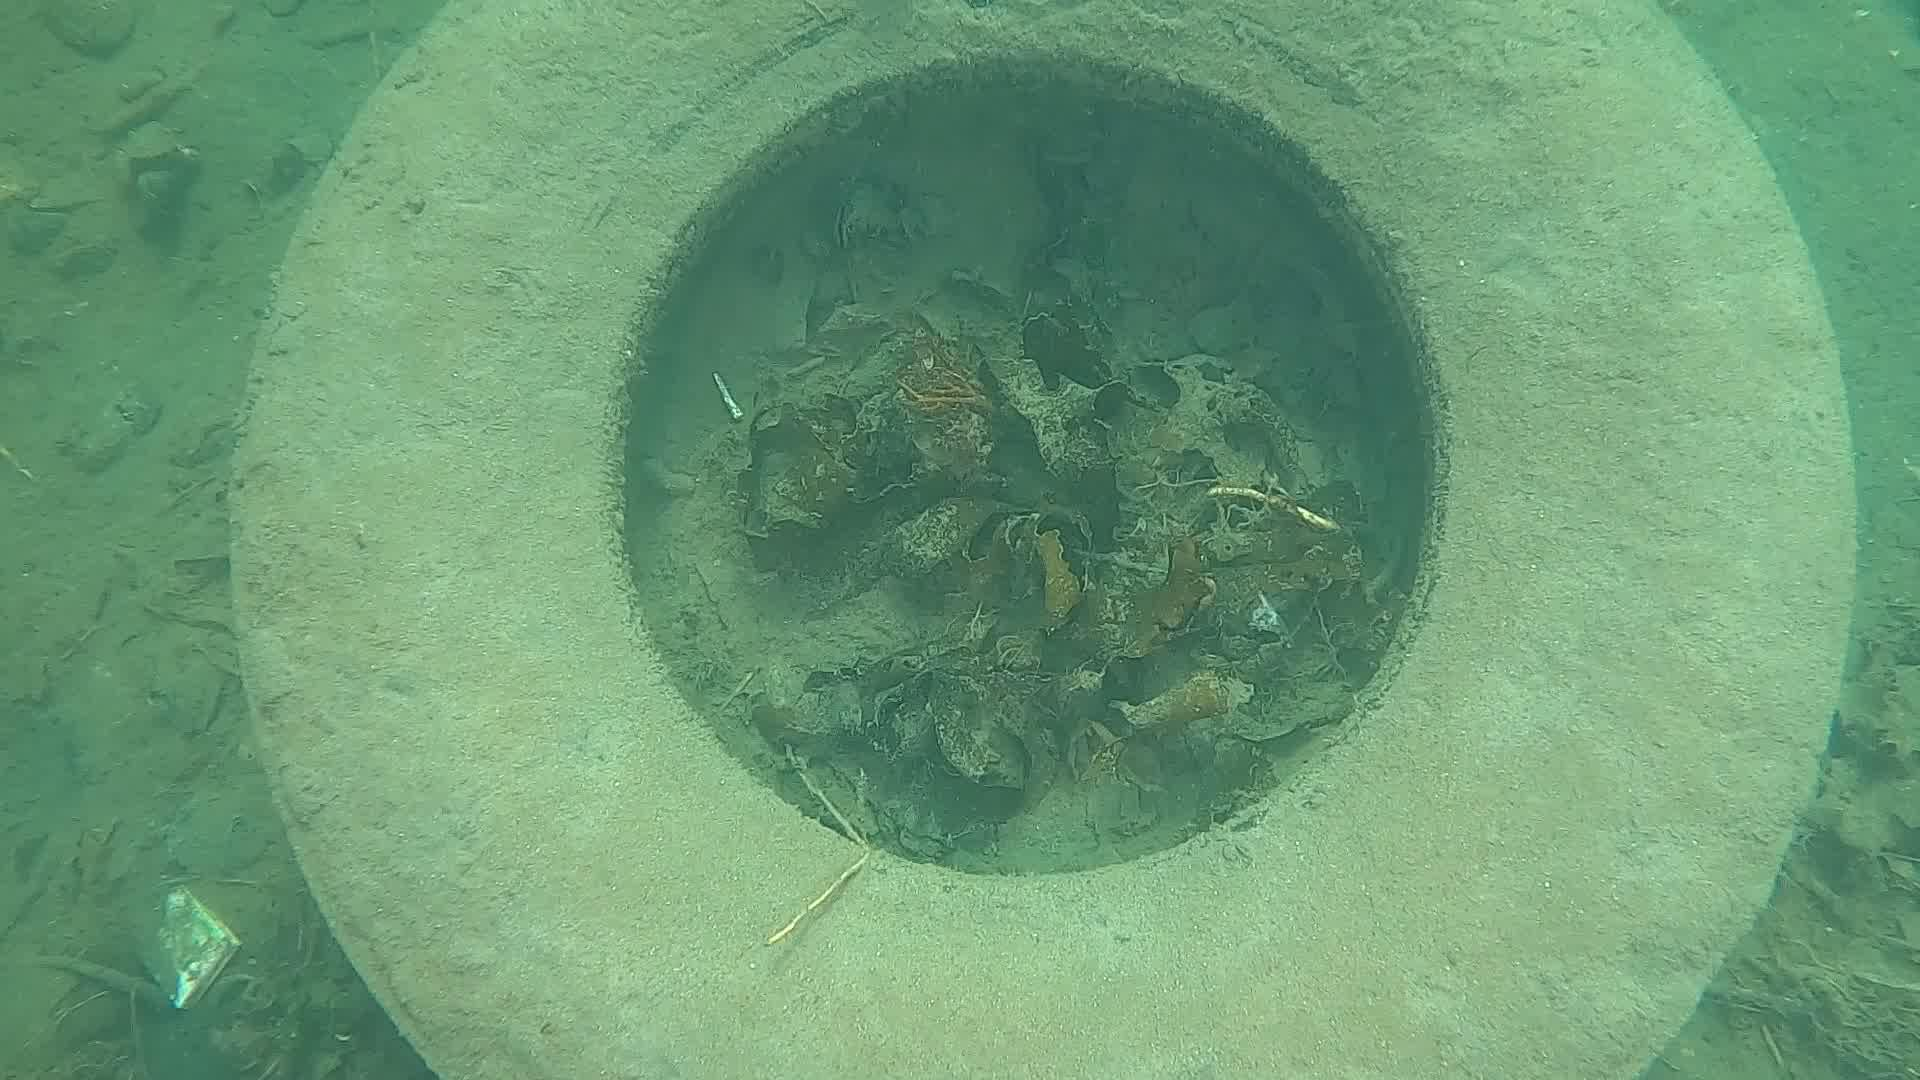tire: (225, 0, 1863, 1080)
